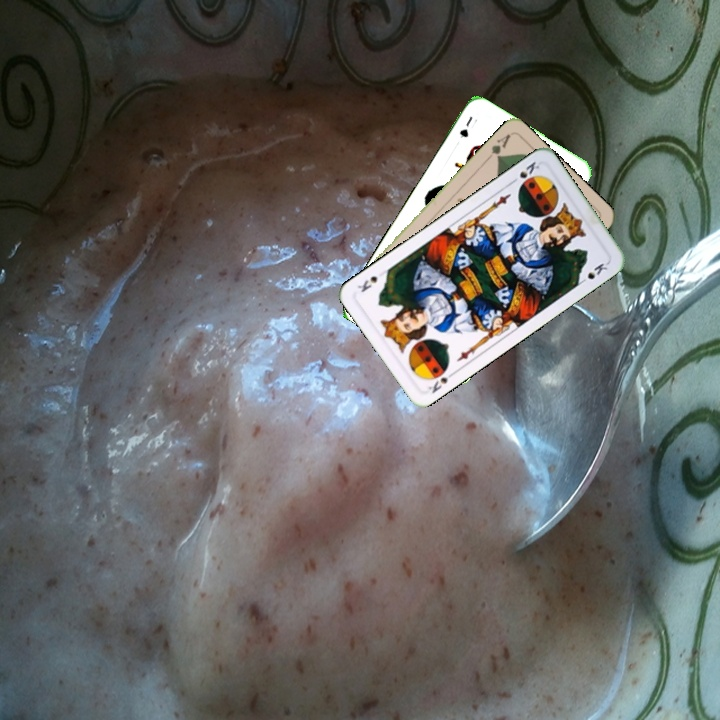GA: (482, 129, 513, 163)
GU: (455, 112, 475, 141)
SK: (506, 157, 542, 187), (424, 367, 458, 396)
